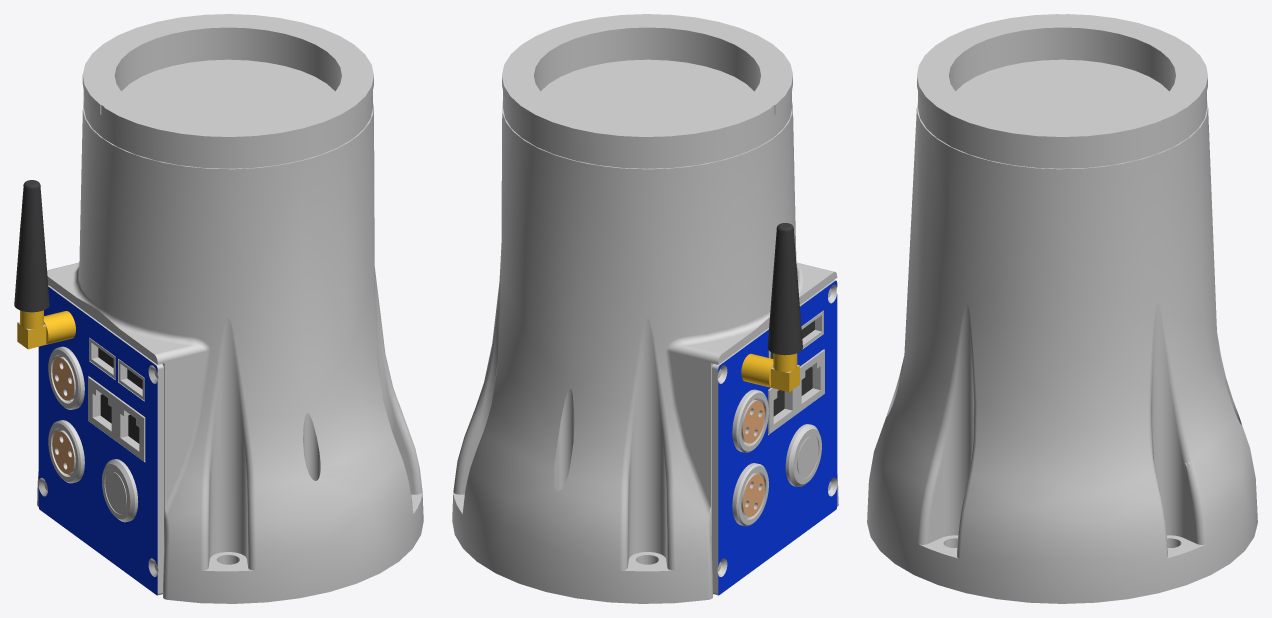
3 views of the same model, side by side, from view 1: azimuth 30°, elevation 25°; view 2: azimuth 150°, elevation 25°; view 3: azimuth 270°, elevation 25° (orthographic).
Parts seen in each view (by area): view 1: base_link; view 2: base_link; view 3: base_link.
Part boxes in pixels (<box>): base_link: <box>14,14,423,603</box>; base_link: <box>452,14,838,603</box>; base_link: <box>867,14,1257,603</box>.
Size of the model in its own units: 11 by 11.43 by 13.85.
